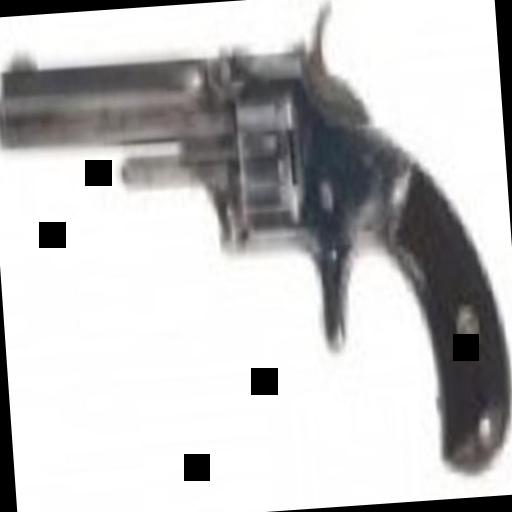Handgun: (0, 0, 510, 498)
